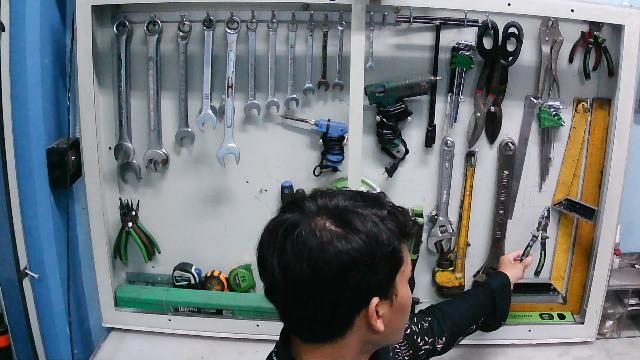tang_kombinasi: (516, 203, 552, 278)
